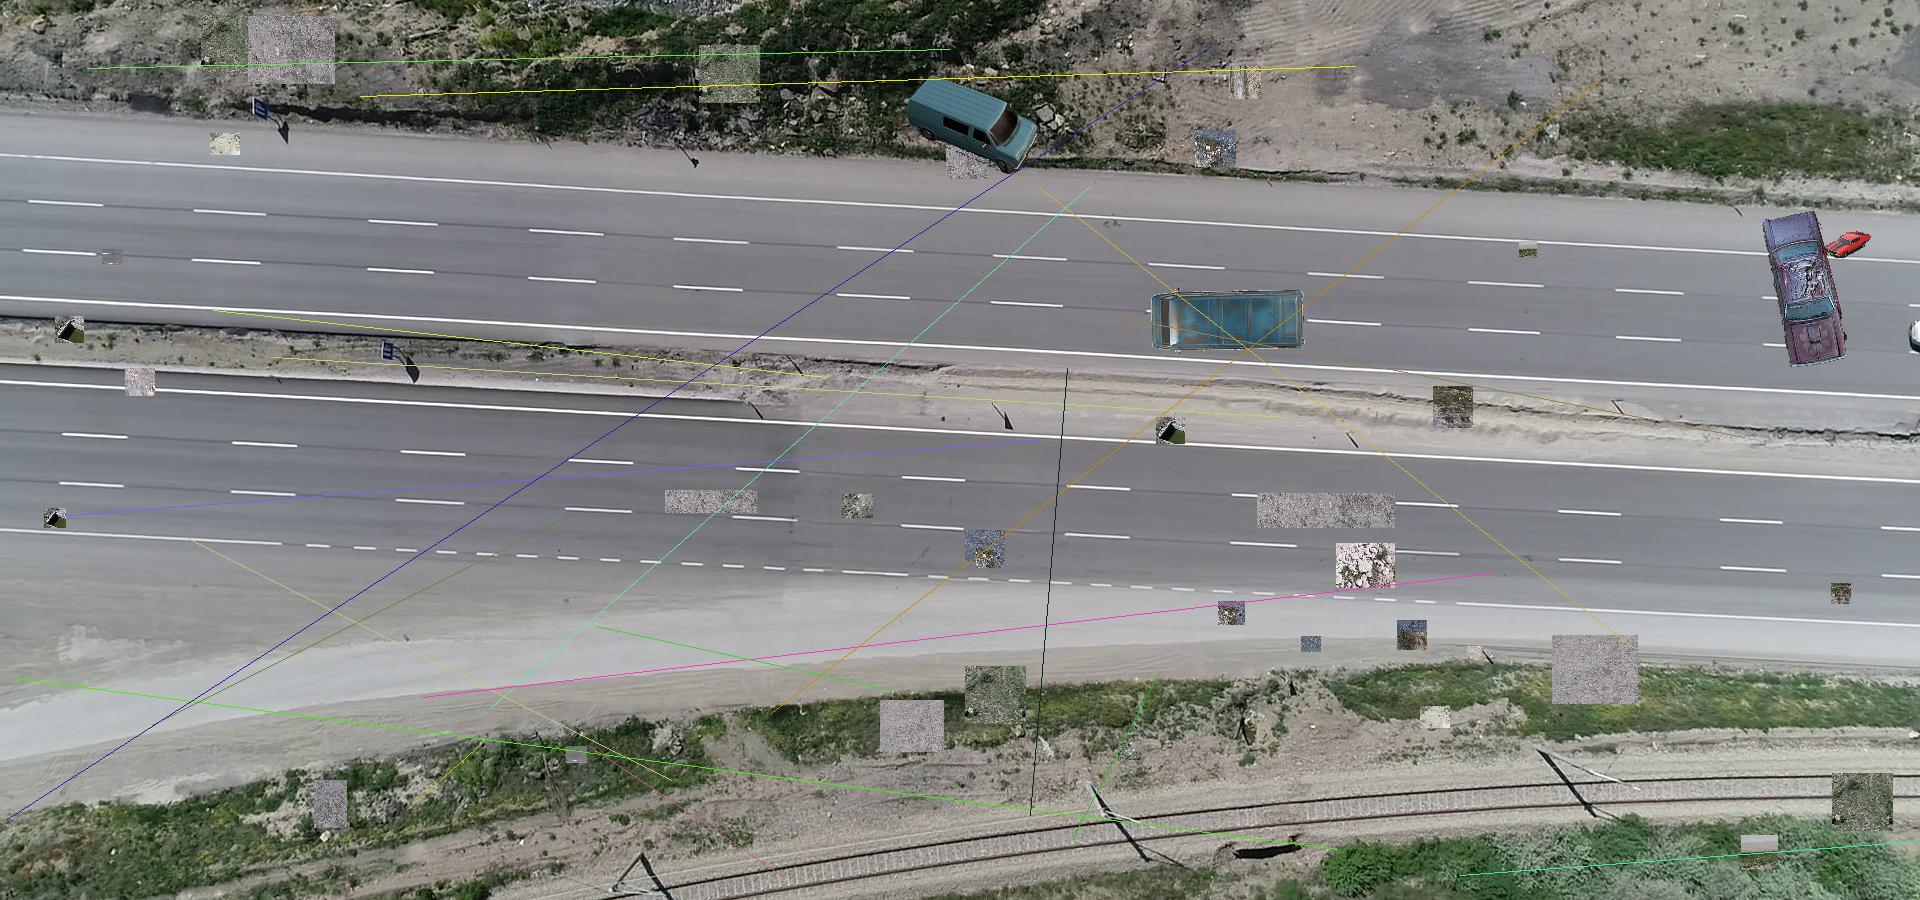arac: (1760, 211, 1851, 367), (905, 72, 1040, 175), (1149, 288, 1307, 354), (1824, 231, 1872, 258)
